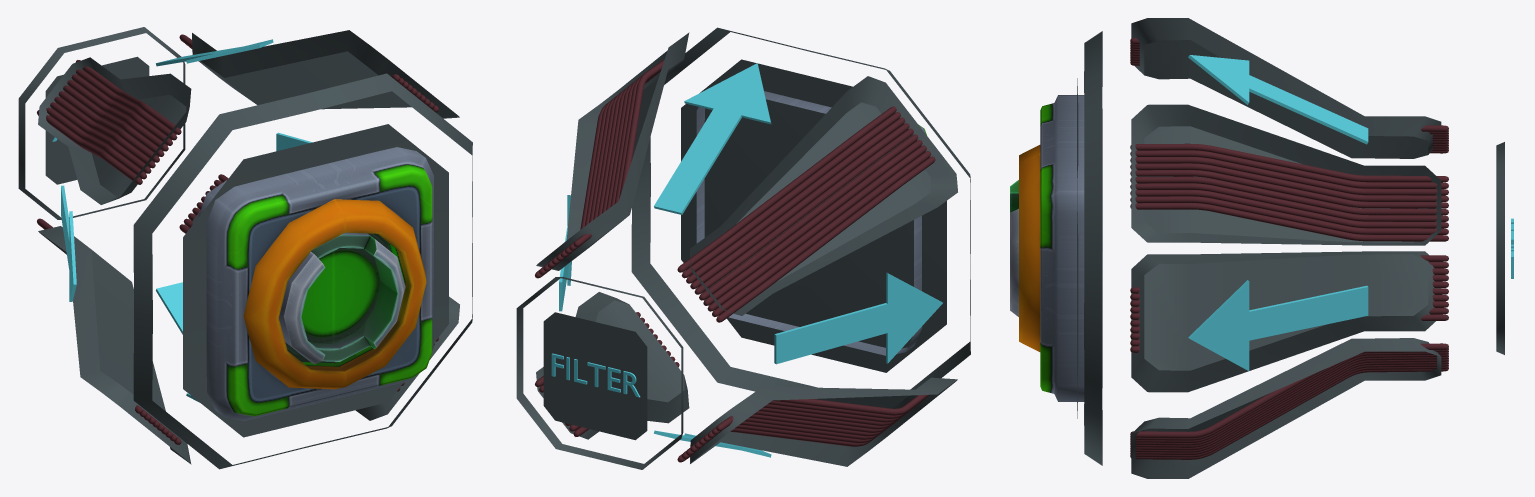
The model's file is fant_teleport_pipe_in.obj.
3 renders of one model, left to right at view 1: azimuth 30°, elevation 25°; view 2: azimuth 150°, elevation 25°; view 3: azimuth 270°, elevation 25°, orthographic.
Visible parts, largest first — view 1: Fant_Teleport_Pipe_In_Cube; view 2: Fant_Teleport_Pipe_In_Cube; view 3: Fant_Teleport_Pipe_In_Cube.
Boxes of the visible parts, x1,y1,x2,y2 form: Fant_Teleport_Pipe_In_Cube: (18,27,472,469); Fant_Teleport_Pipe_In_Cube: (516,27,970,469); Fant_Teleport_Pipe_In_Cube: (1010,18,1513,478).
Bounding box in the file's own units: 3.04 × 3.04 × 3.63.
